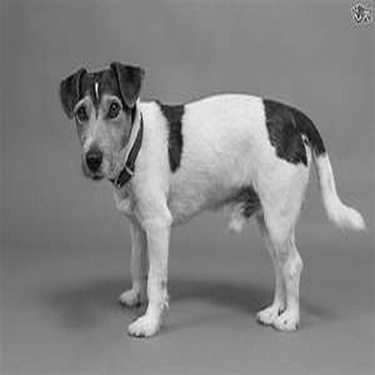dog: (47, 59, 371, 341)
